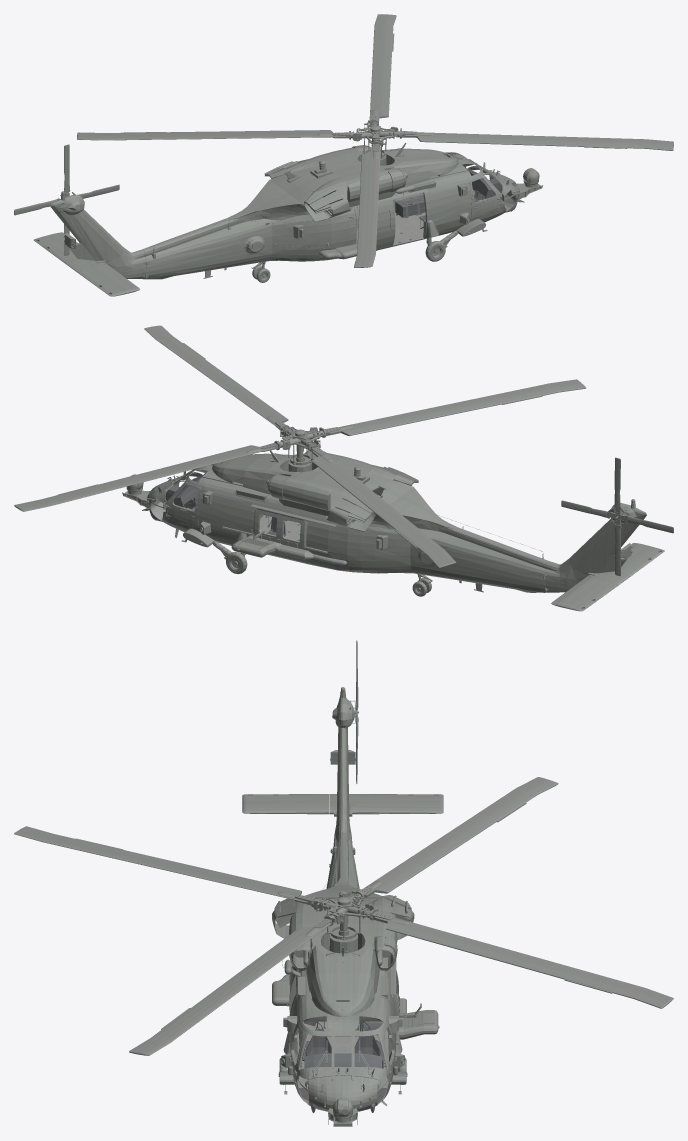
3 views of the same model, one above another, from view 1: azimuth 30°, elevation 25°; view 2: azimuth 150°, elevation 25°; view 3: azimuth 270°, elevation 25° (orthographic). The views are drawn at different scales.
Visible parts, largest first — view 1: sh60; view 2: sh60; view 3: sh60.
Boxes of the visible parts, box(x1,y1,x2,y2) form: sh60: box(14, 14, 673, 296); sh60: box(14, 325, 673, 611); sh60: box(14, 640, 673, 1126).
Size of the model in its own units: 4.4 by 1.3 by 3.38.
11 materials, 11 textured.
